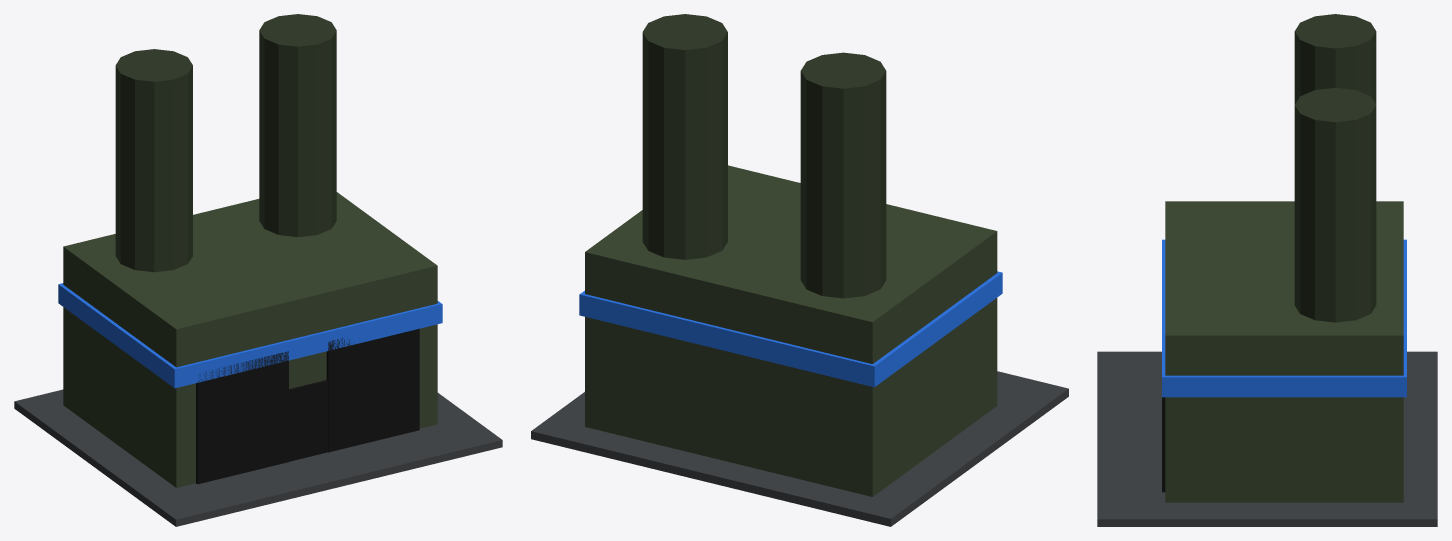
File: ru_vehicle_plant.glb
3 renders of one model, left to right at view 1: azimuth 30°, elevation 25°; view 2: azimuth 150°, elevation 25°; view 3: azimuth 270°, elevation 25°, orthographic. The views are drawn at different scales.
Parts seen in each view (by area): view 1: main, base, stack_0, stack_1, garage_0, garage_1, team_band, door; view 2: main, stack_0, stack_1, base, team_band; view 3: main, base, stack_1, team_band, stack_0.
Part boxes in pixels (bbox=[...]): main: bbox=[63, 192, 437, 487]; base: bbox=[14, 389, 502, 526]; stack_0: bbox=[115, 49, 192, 272]; stack_1: bbox=[259, 14, 336, 236]; garage_0: bbox=[196, 351, 288, 484]; garage_1: bbox=[326, 328, 419, 452]; team_band: bbox=[58, 283, 442, 388]; door: bbox=[289, 380, 327, 461]; main: bbox=[585, 165, 997, 496]; stack_0: bbox=[800, 52, 886, 298]; stack_1: bbox=[642, 14, 727, 259]; base: bbox=[531, 371, 1068, 526]; team_band: bbox=[579, 271, 1002, 387]; main: bbox=[1165, 201, 1403, 502]; base: bbox=[1097, 351, 1437, 526]; stack_1: bbox=[1294, 87, 1376, 322]; team_band: bbox=[1162, 239, 1406, 397]; stack_0: bbox=[1294, 14, 1376, 104].
Size of the model in its own units: 14 by 14.6 by 12.
